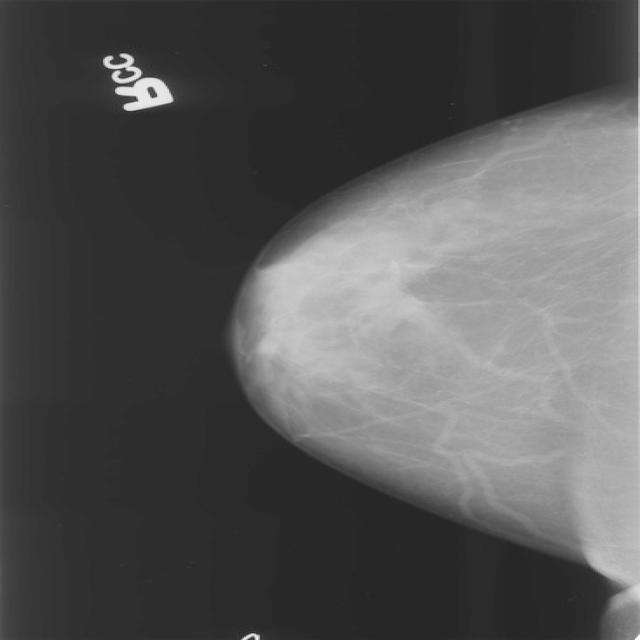tumour: (352, 278, 424, 328)
